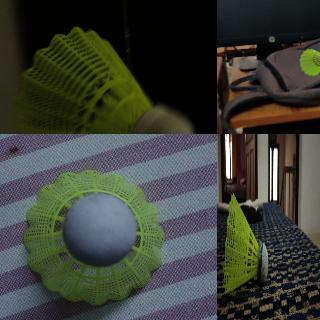shuttlecock: (13, 26, 197, 133), (23, 170, 164, 304), (223, 194, 268, 294), (299, 48, 319, 76)
